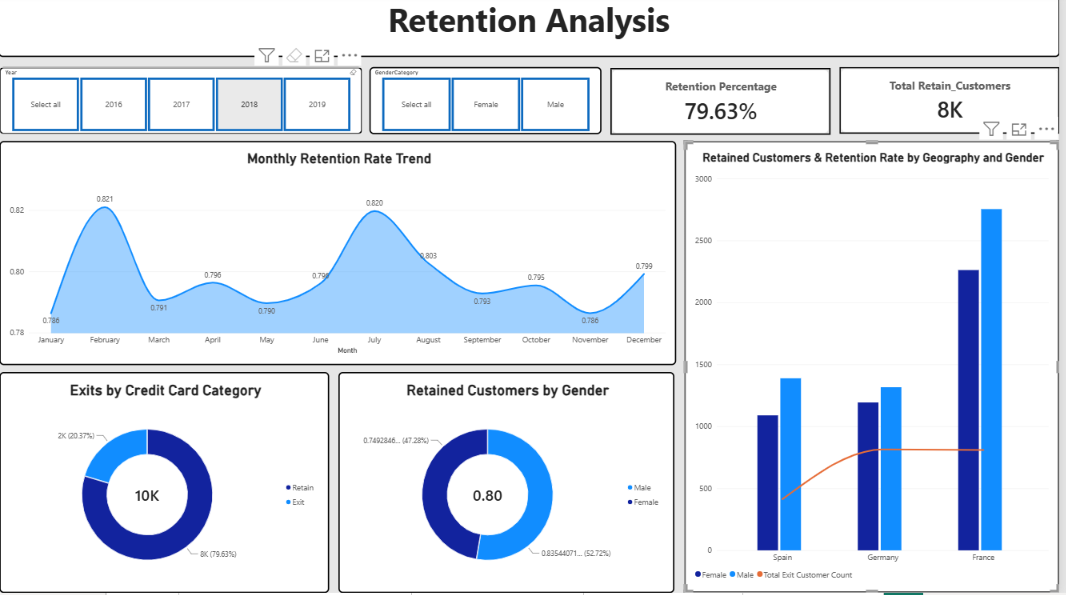

This screenshot's page, from the dashboard's own definition file:
{"tool":"powerbi","page":{"name":"Retention Analysis","canvas":[1920,1080],"ordinal":4},"visuals":[{"type":"areaChart","title":"Monthly Retention Rate Trend","fields":{"Category":["Bank_Chduurn.Bank DOJ.Variation.Date Hierarchy.Month"],"Y":["Bank_Chduurn.Retention Percentage"]},"box":[1.8,262.4,1225.1,405.4],"z":0},{"type":"textbox","box":[0,0,1920.7,110.6],"z":1},{"type":"lineClusteredColumnComboChart","title":"Retained Customers & Retention Rate by Geography and Gender","fields":{"Category":["Sheet1.GeographyLocation"],"Series":["Table1.GenderCategory"],"Y":["Bank_Chduurn.Total Customers"],"Y2":["Bank_Chduurn.Total Exit Customer Count"]},"box":[1241.4,262.4,678.6,818],"z":2},{"type":"donutChart","title":"Retained Customers by Gender","fields":{"Category":["Table1.GenderCategory"],"Y":["Bank_Chduurn.Retention Percentage"]},"box":[615.3,680.4,608,399.9],"z":3},{"type":"donutChart","title":"Exits by Credit Card Category","fields":{"Category":["Table1 (2).ExitCategory"],"Y":["Bank_Chduurn.Total Customers"]},"box":[1.8,680.4,597.2,399.9],"z":4},{"type":"slicer","fields":{"Values":["Bank_Chduurn.Year"]},"box":[1.8,128.5,656.9,121.2],"z":5},{"type":"slicer","fields":{"Values":["Table1.GenderCategory"]},"box":[671.4,128.5,419.8,121.2],"z":6},{"type":"cardVisual","fields":{"Data":["Bank_Chduurn.Retention Percentage"]},"box":[1103.9,128.5,398.1,121.2],"z":9},{"type":"cardVisual","fields":{"Data":["Bank_Chduurn.Total_Retain_Customers"]},"box":[1521.9,128.5,398.1,121.2],"z":10}]}

Visuals, with their boxes in screenshot pixels (x1, y1, x2, y2), scaled from the page's 1920x1080 canvas onto the 1066x595 screenshot:
"Monthly Retention Rate Trend" areaChart: [1, 145, 681, 368]
textbox: [0, 0, 1065, 61]
"Retained Customers & Retention Rate by Geography and Gender" lineClusteredColumnComboChart: [689, 145, 1065, 594]
"Retained Customers by Gender" donutChart: [342, 375, 679, 594]
"Exits by Credit Card Category" donutChart: [1, 375, 333, 594]
slicer - Bank_Chduurn.Year: [1, 71, 366, 138]
slicer - Table1.GenderCategory: [373, 71, 606, 138]
cardVisual - Bank_Chduurn.Retention Percentage: [613, 71, 834, 138]
cardVisual - Bank_Chduurn.Total_Retain_Customers: [845, 71, 1065, 138]
